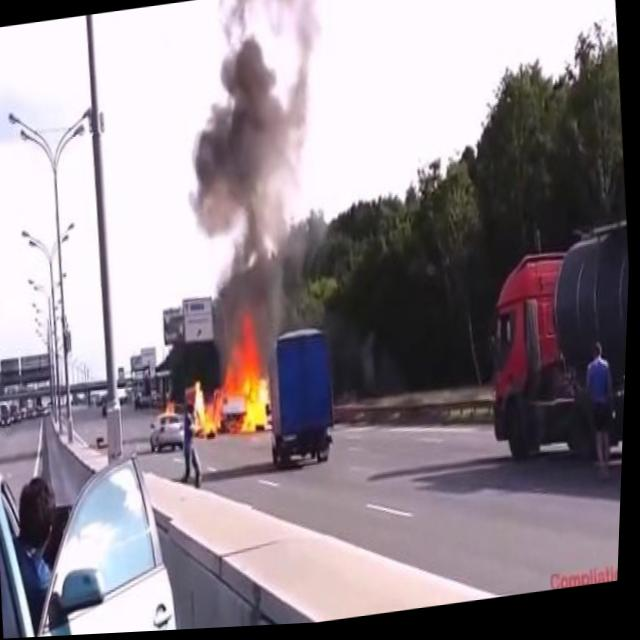fire: (187, 307, 283, 442)
